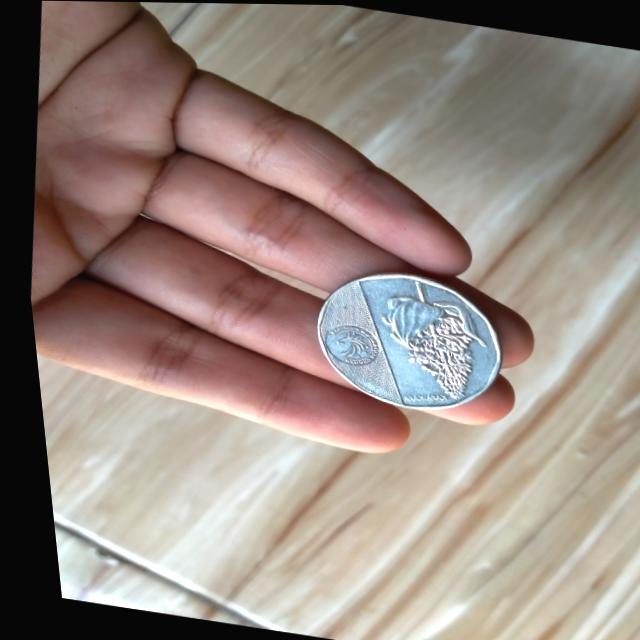10_New_Back: (359, 273, 487, 409)
